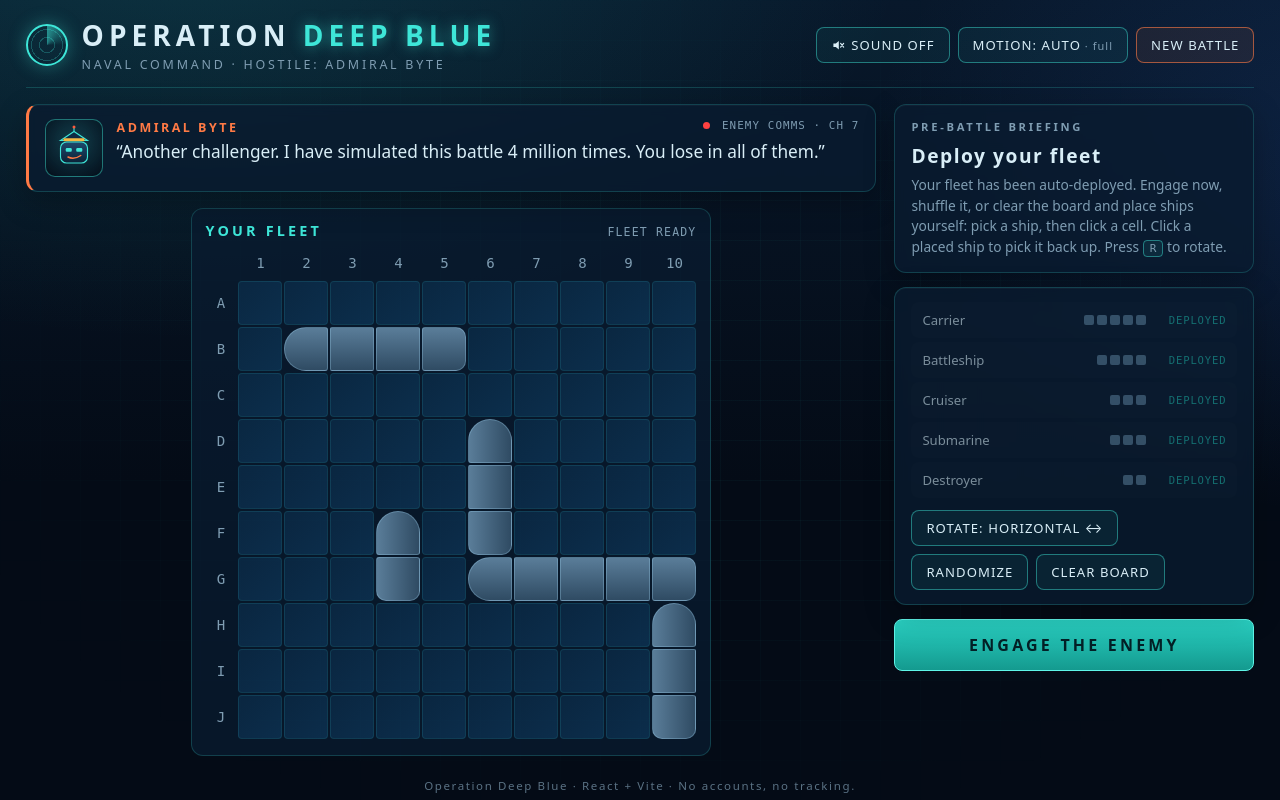
Test: App (integration) › restart during the AI turn fully resets and the pending AI move never lands
Click the button "Engage the enemy" at (1074, 645), box [894,619,1254,671]
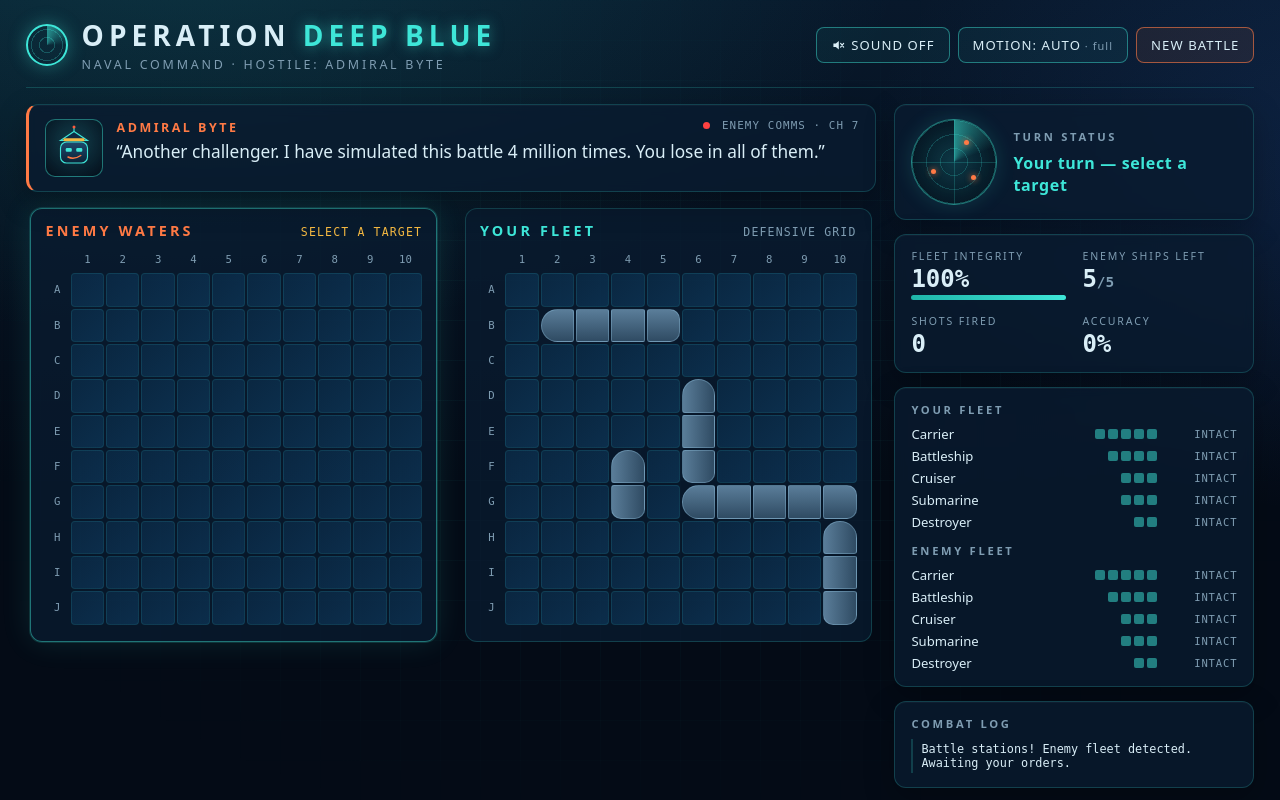
Click the button named "A1, unknown waters" at (87, 290), box [71,273,104,307]
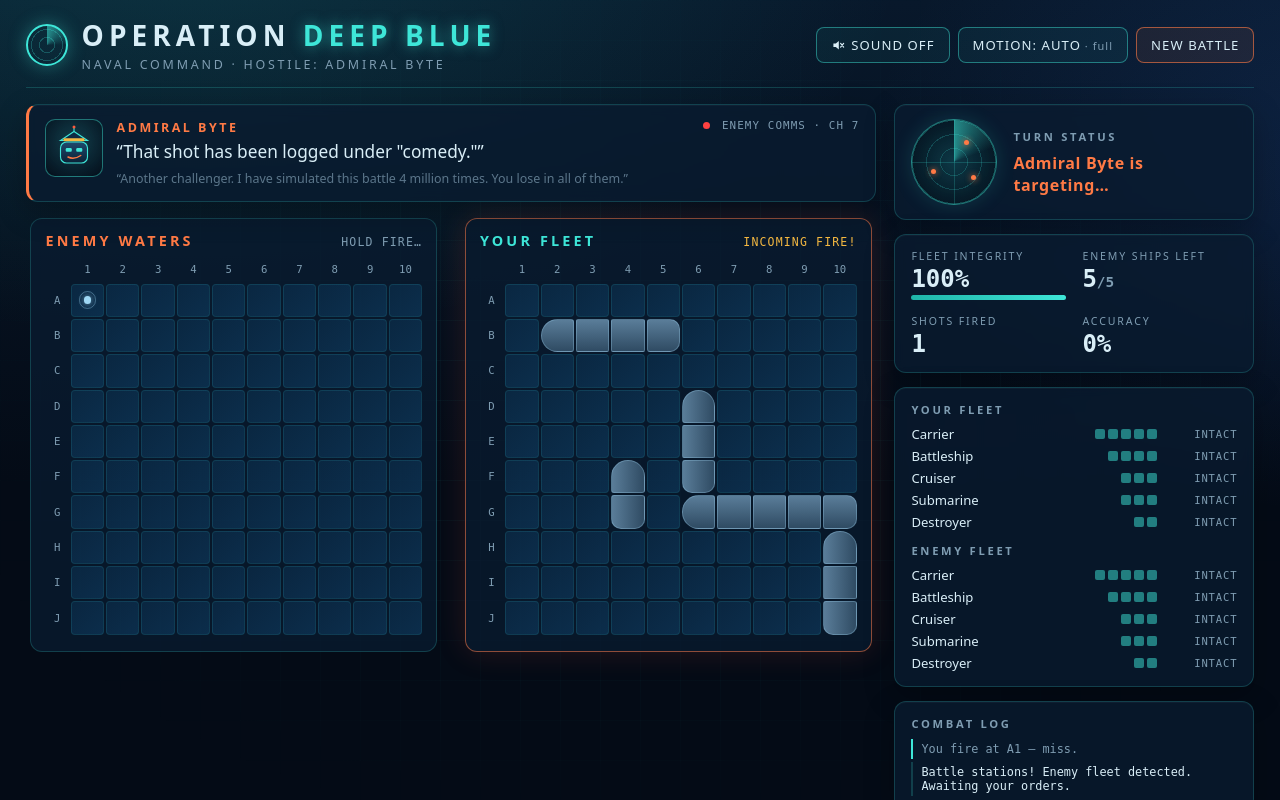
Click the button "New battle" at (1195, 44), box [1136,26,1254,62]
Wait 2000 ms
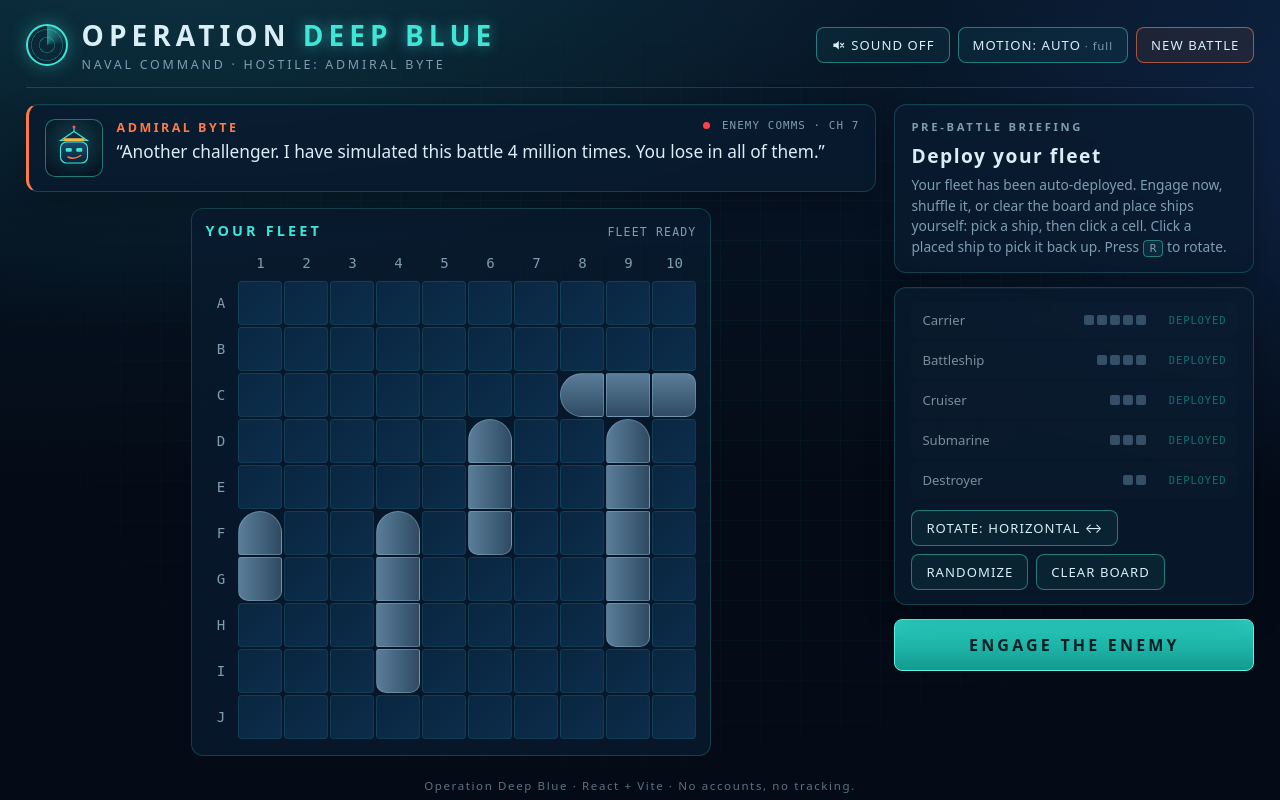
Click the button "Engage the enemy" at (1074, 645), box [894,619,1254,671]
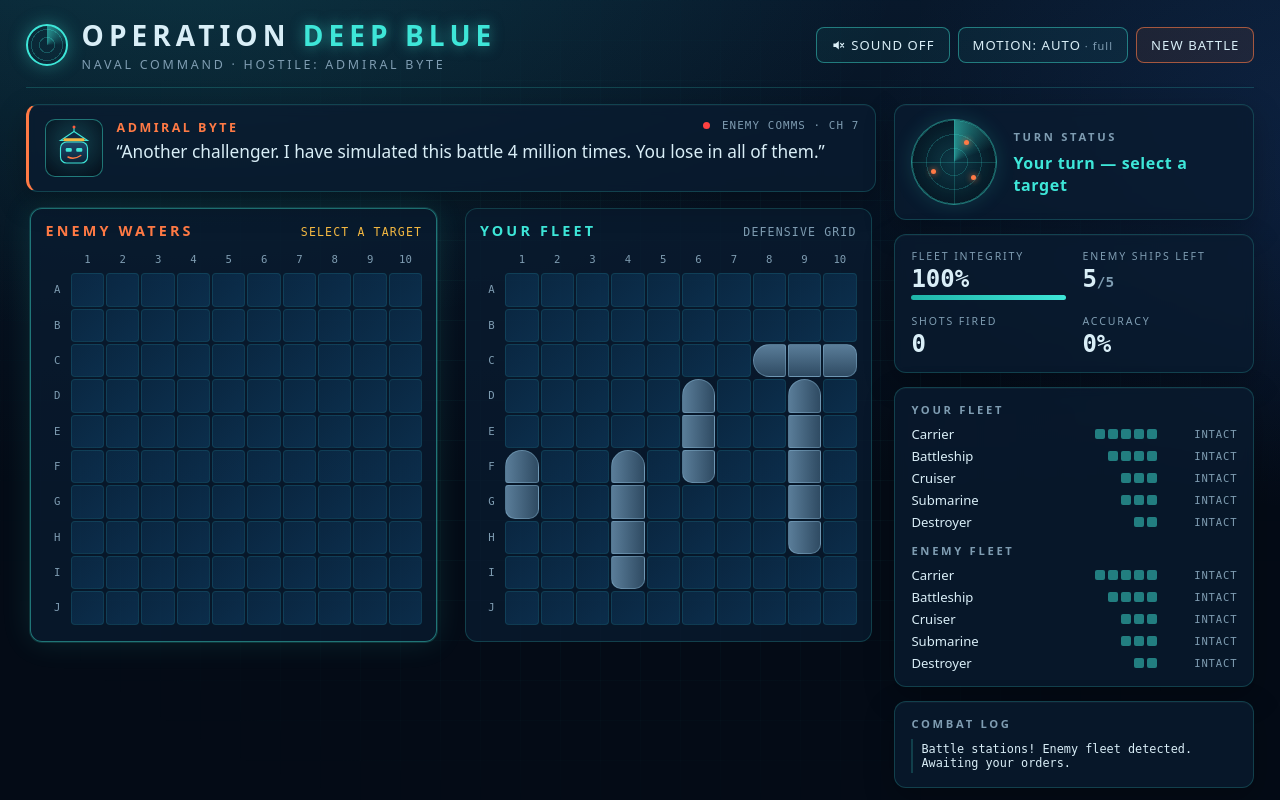
Expected: the list with test id "combat-log" does not show "fires at", [911,739,1237,773]
Expected: the text with test id "stat-integrity" reads "100%", [911,265,969,293]
